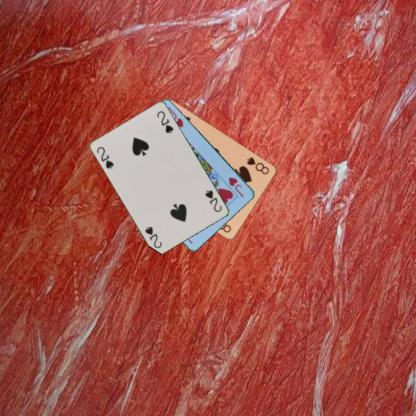2s: (94, 144, 115, 170), (203, 187, 223, 214)
8s: (244, 154, 270, 176)
Jh: (226, 174, 245, 199)
